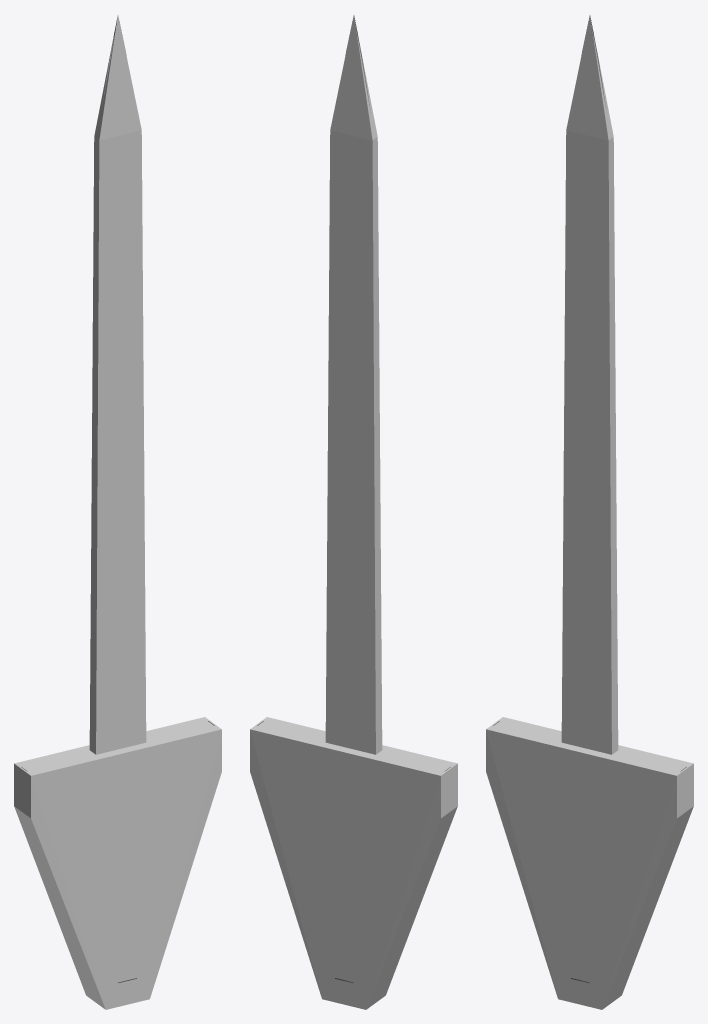
File: Sword.fbx
The picture shows the model from 3 angles, left to right: view 1: azimuth 30°, elevation 25°; view 2: azimuth 150°, elevation 25°; view 3: azimuth 330°, elevation 25°; orthographic projection.
Parts seen in each view (by area): view 1: Hilt_COL, Blade_COL; view 2: Hilt_COL, Blade_COL; view 3: Hilt_COL, Blade_COL.
Part boxes in pixels (x1,y1,x2,y2): Hilt_COL: (14,717,221,1009); Blade_COL: (89,15,146,754); Hilt_COL: (250,717,457,1009); Blade_COL: (325,15,382,754); Hilt_COL: (486,717,693,1009); Blade_COL: (561,15,618,754).
Size of what is drawn, in the model's own units: 0.234 by 1.15 by 0.042.
Materials: 2 (1 with a texture image).
